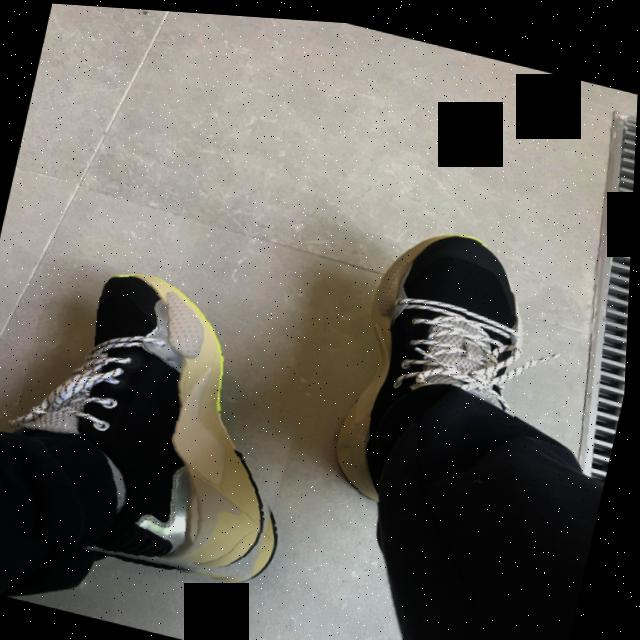shoe: (0, 248, 335, 598), (325, 203, 554, 524)
